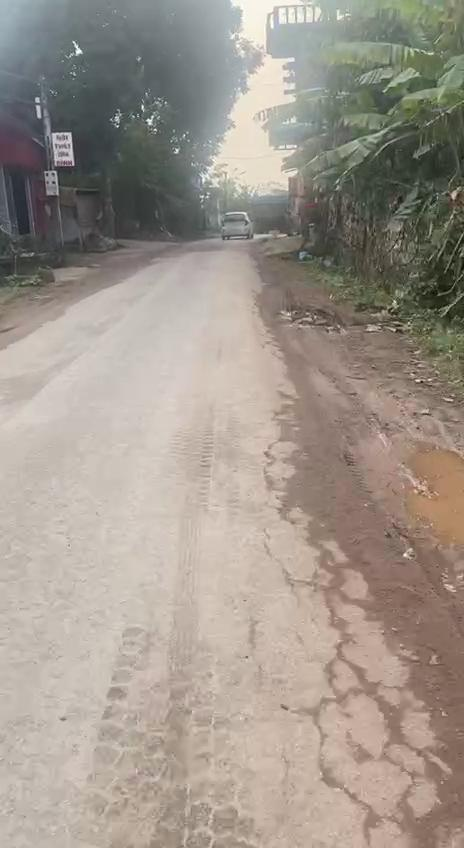pothole: (368, 423, 464, 565)
